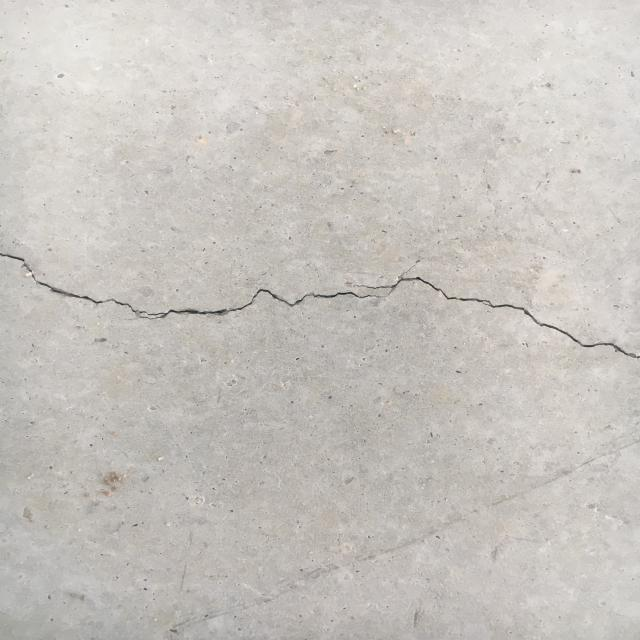Rachadura: (0, 244, 640, 364)
